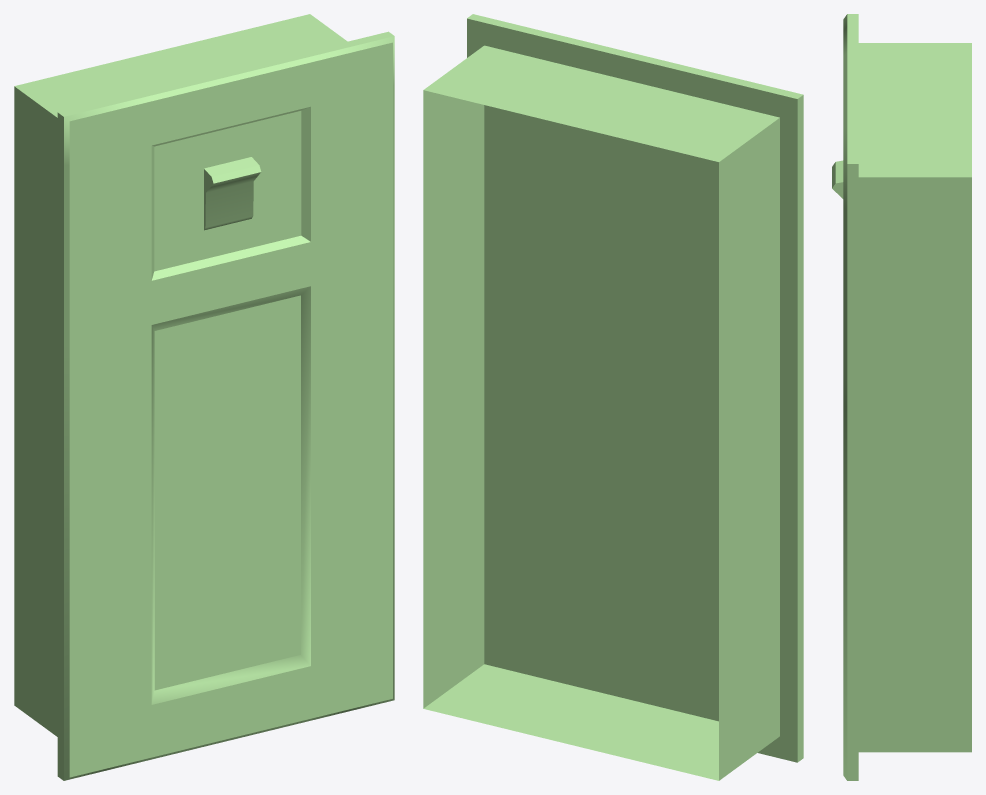
The model's file is breakerbox1.fbx.
3 views of the same model, side by side, from view 1: azimuth 30°, elevation 25°; view 2: azimuth 150°, elevation 25°; view 3: azimuth 270°, elevation 25° (orthographic). The views are drawn at different scales.
Visible parts, largest first — view 1: AA_BreakerBox_TCH_01_SMesh; view 2: AA_BreakerBox_TCH_01_SMesh; view 3: AA_BreakerBox_TCH_01_SMesh.
Part boxes in pixels (x1,y1,x2,y2): AA_BreakerBox_TCH_01_SMesh: [14, 14, 394, 780]; AA_BreakerBox_TCH_01_SMesh: [423, 14, 803, 780]; AA_BreakerBox_TCH_01_SMesh: [832, 14, 971, 780].
Bounding box in the file's own units: 2908 × 5576 × 1146.
